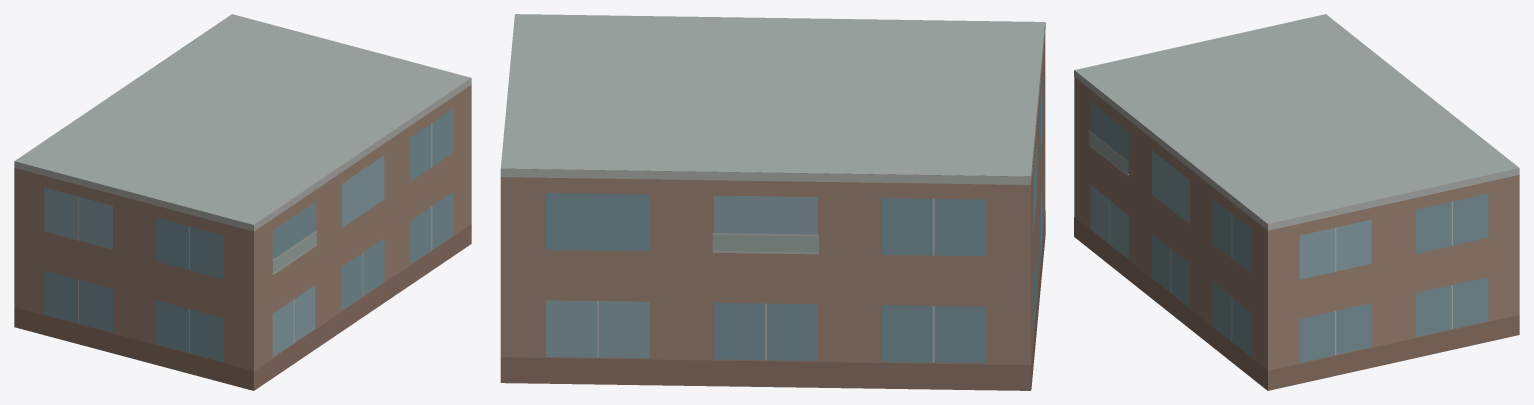
File: survey-upis-32718389.glb
3 renders of one model, left to right at view 1: azimuth 30°, elevation 25°; view 2: azimuth 150°, elevation 25°; view 3: azimuth 270°, elevation 25°, orthographic. The views are drawn at different scales.
Parts seen in each view (by area): view 1: survey-upis-32718389.tmp; view 2: survey-upis-32718389.tmp; view 3: survey-upis-32718389.tmp.
Boxes of the visible parts, x1,y1,x2,y2 form: survey-upis-32718389.tmp: [14, 14, 471, 390]; survey-upis-32718389.tmp: [500, 14, 1045, 390]; survey-upis-32718389.tmp: [1074, 14, 1519, 390].
Size of the model in its own units: 16.49 by 6.1 by 14.78.
